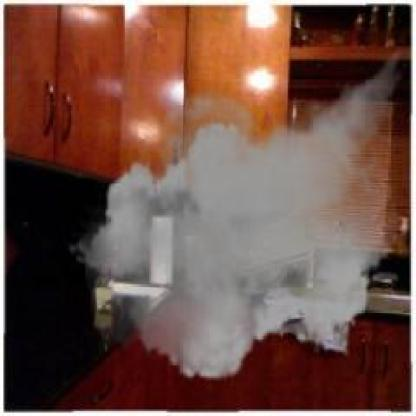Smoke: (67, 29, 410, 390)
